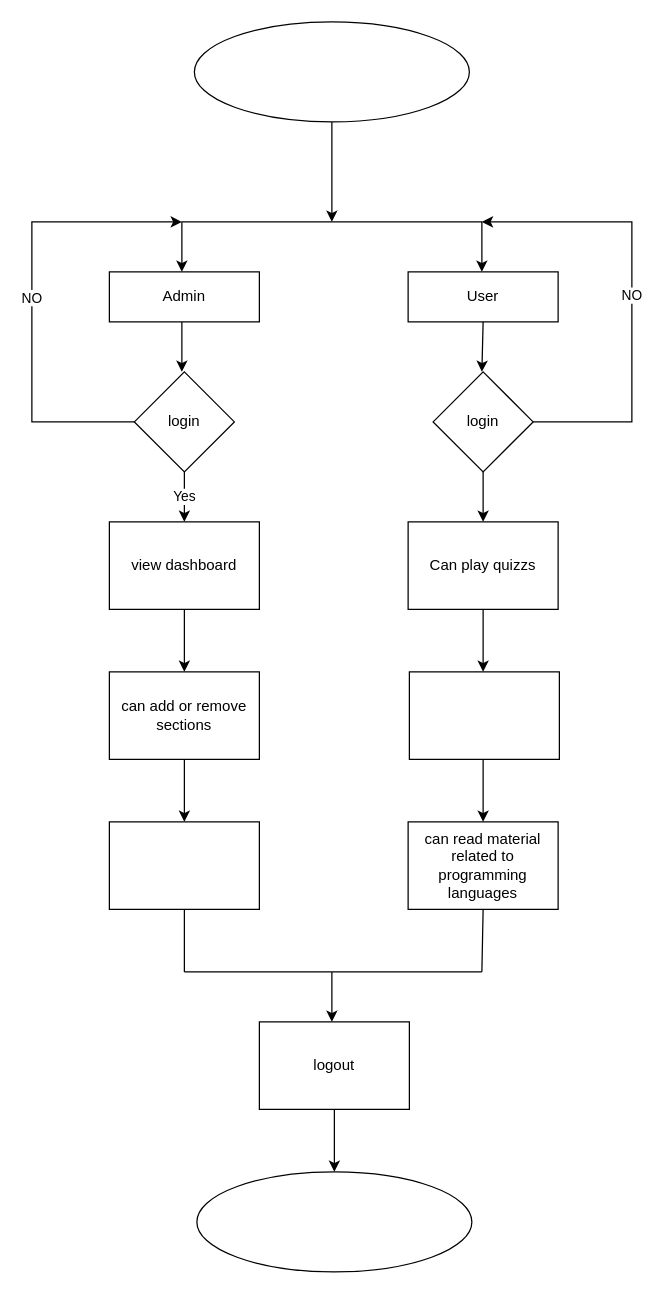
This 664x1294 diagram has some shape labels left out. The shapes that lost their labels are listed below. From the top down, each one's box as (x1, y1, x2, y2) in pixels, then its label:
(193, 21, 469, 122): Start
(408, 671, 559, 759): can view result
(108, 821, 259, 909): can add or remove questions
(196, 1171, 472, 1272): Stop
